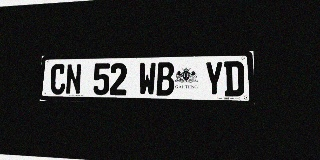2: (110, 63, 127, 95)
5: (93, 63, 110, 95)
B: (156, 62, 174, 96)
C: (50, 64, 66, 95)
D: (224, 61, 244, 97)
N: (65, 64, 82, 95)
W: (139, 62, 156, 96)
Y: (204, 61, 224, 96)
